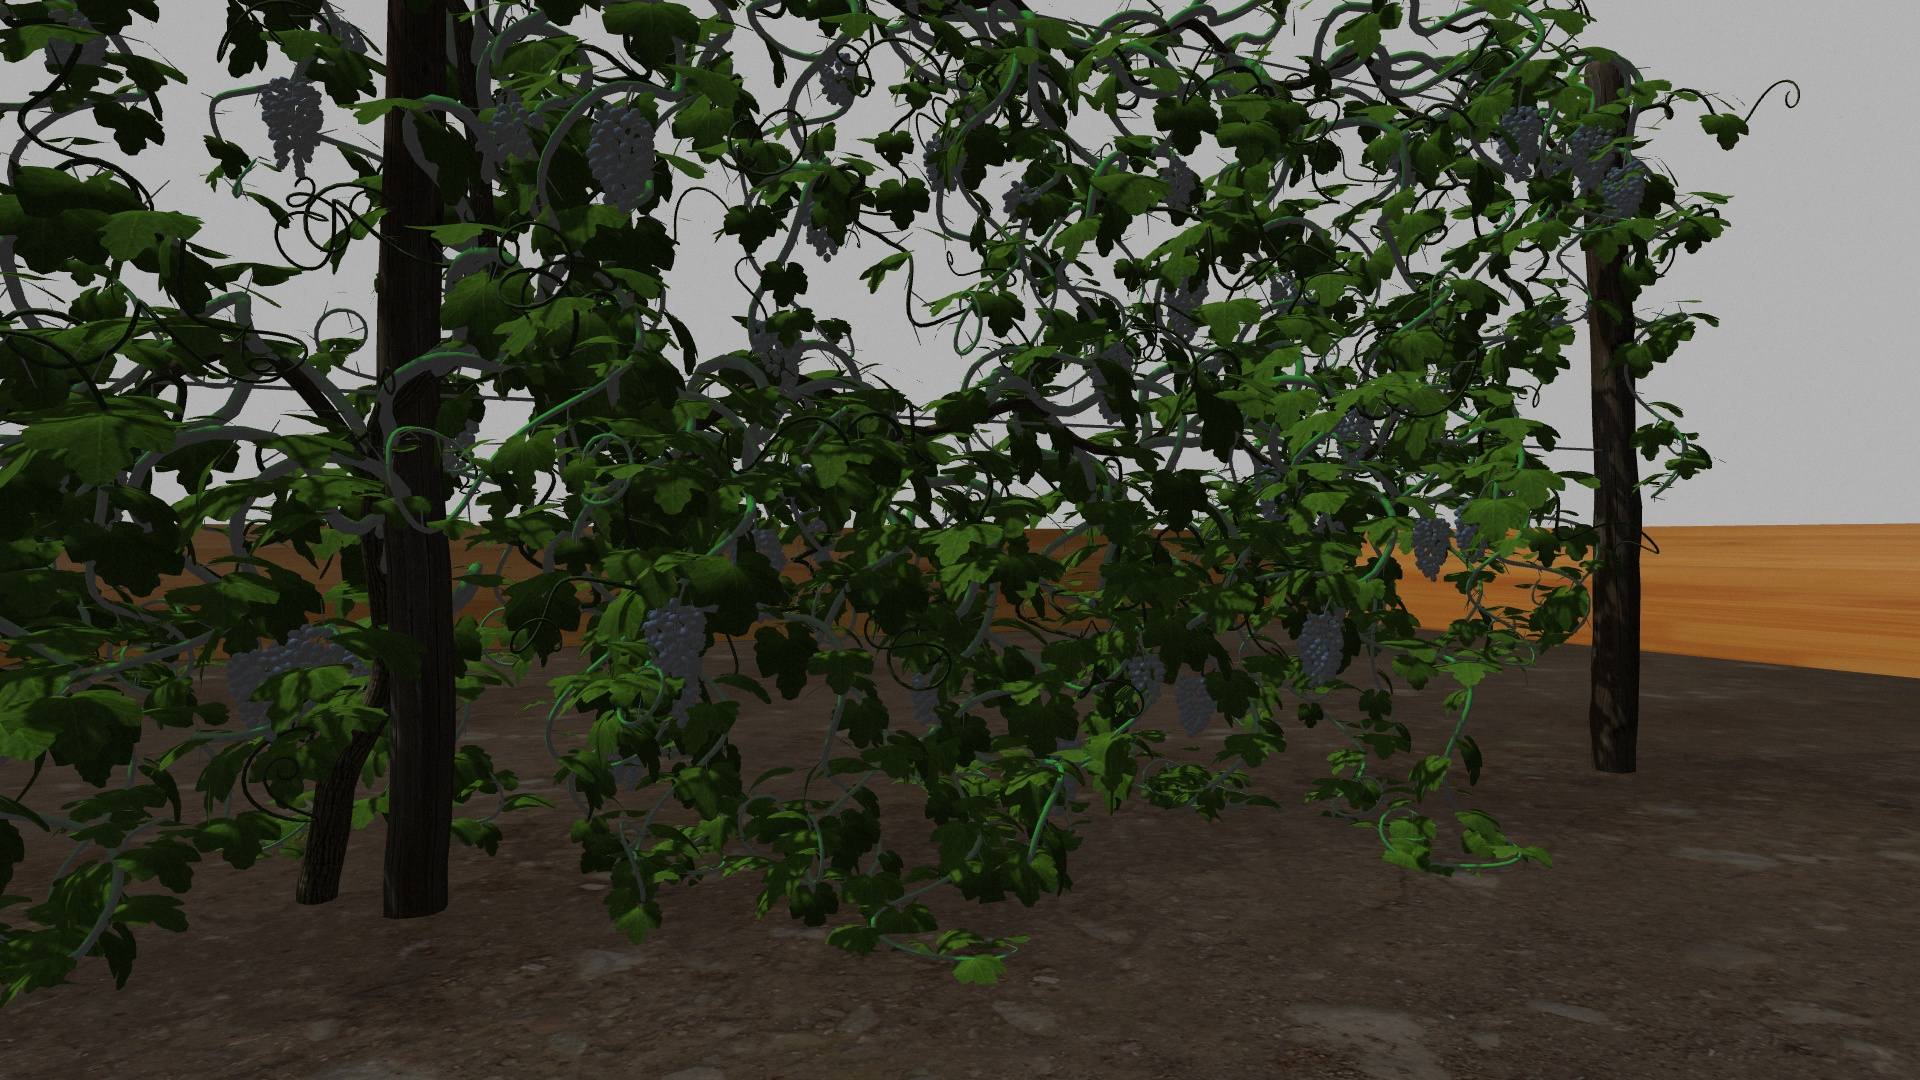grape: (641, 597, 708, 724), (585, 102, 657, 214), (260, 76, 326, 175), (225, 651, 281, 740), (750, 316, 804, 389), (483, 99, 539, 166), (1495, 105, 1543, 185), (1567, 119, 1615, 195), (1295, 616, 1346, 688), (281, 626, 352, 675), (1162, 274, 1208, 344), (1174, 671, 1218, 738), (1410, 518, 1451, 585), (1601, 161, 1646, 222), (822, 53, 862, 111), (1336, 407, 1375, 464), (1129, 650, 1167, 707), (909, 675, 949, 727), (1455, 504, 1489, 563), (1160, 160, 1195, 214), (1002, 179, 1044, 222)
